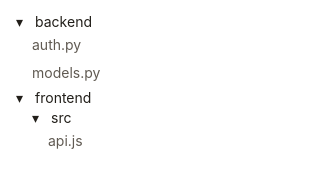
Test: FileTree › expands and collapses a directory via its caret, independent of the name click target
This screenshot has width=332, height=172.
Expected: the button "auth.py" is shown, [28, 35, 85, 55]
Click the button named "Collapse backend" at {"x": 20, "y": 22}, box [12, 12, 27, 32]
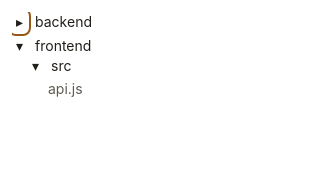
Expected: the button named "Expand backend" is collapsed
Expected: the button "auth.py" is gone
Click the button named "Expand backend" at {"x": 20, "y": 22}, box [12, 12, 27, 32]
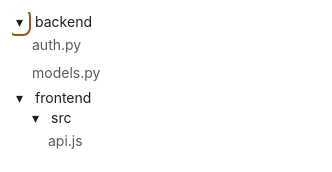
Expected: the button named "Collapse backend" is expanded, [12, 12, 27, 32]
Expected: the button "auth.py" is shown, [28, 35, 85, 55]
